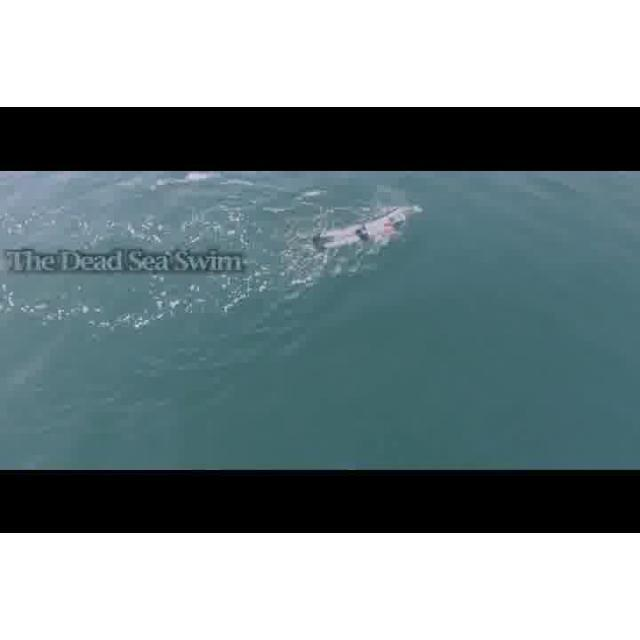human: (316, 203, 425, 252)
